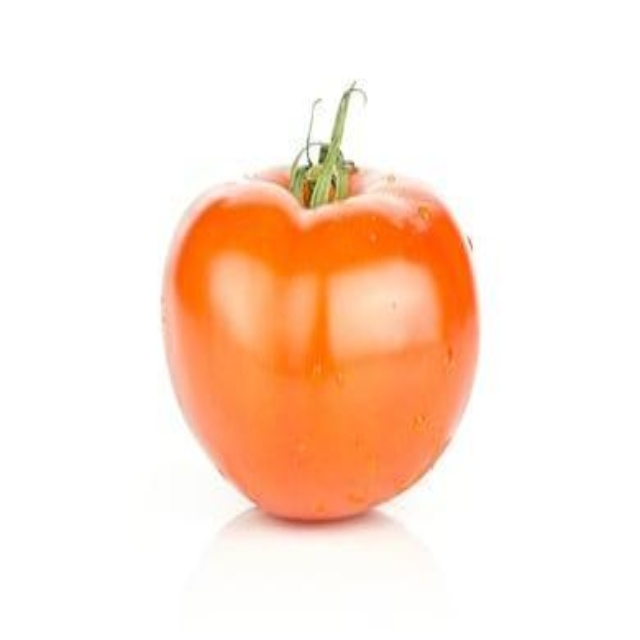tomato: (147, 143, 484, 531)
